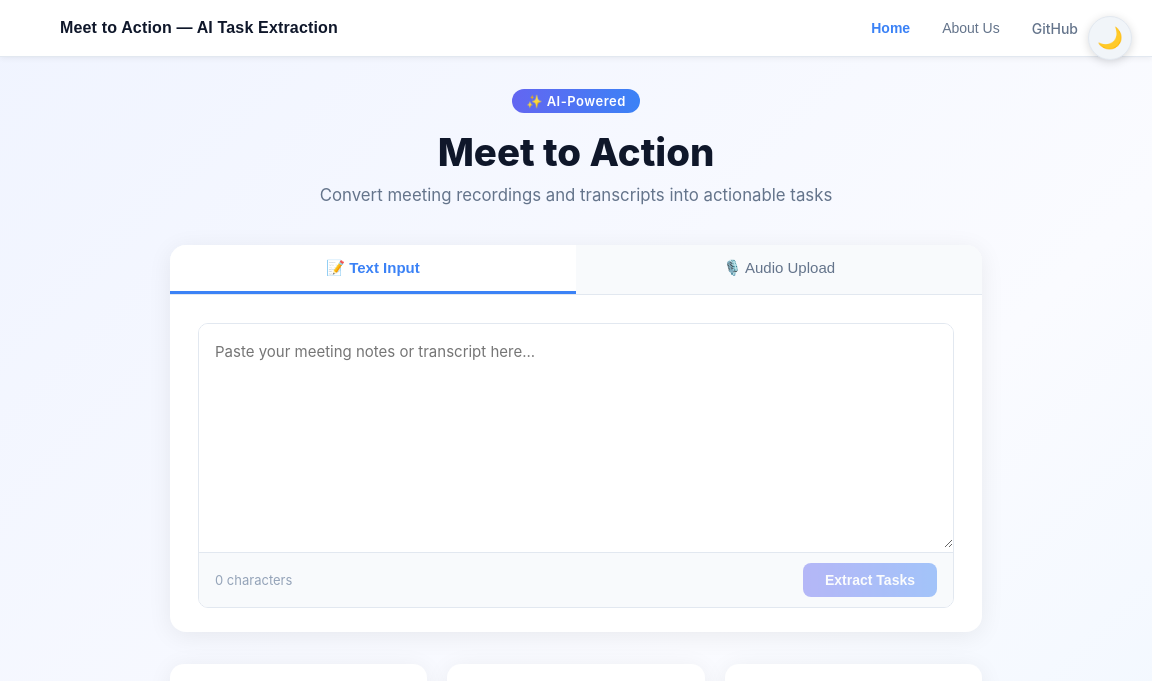
it: switching to Audio Upload tab shows the drop zone
Click the tab "🎙️ Audio Upload" at (779, 270), box [576,245,982,294]
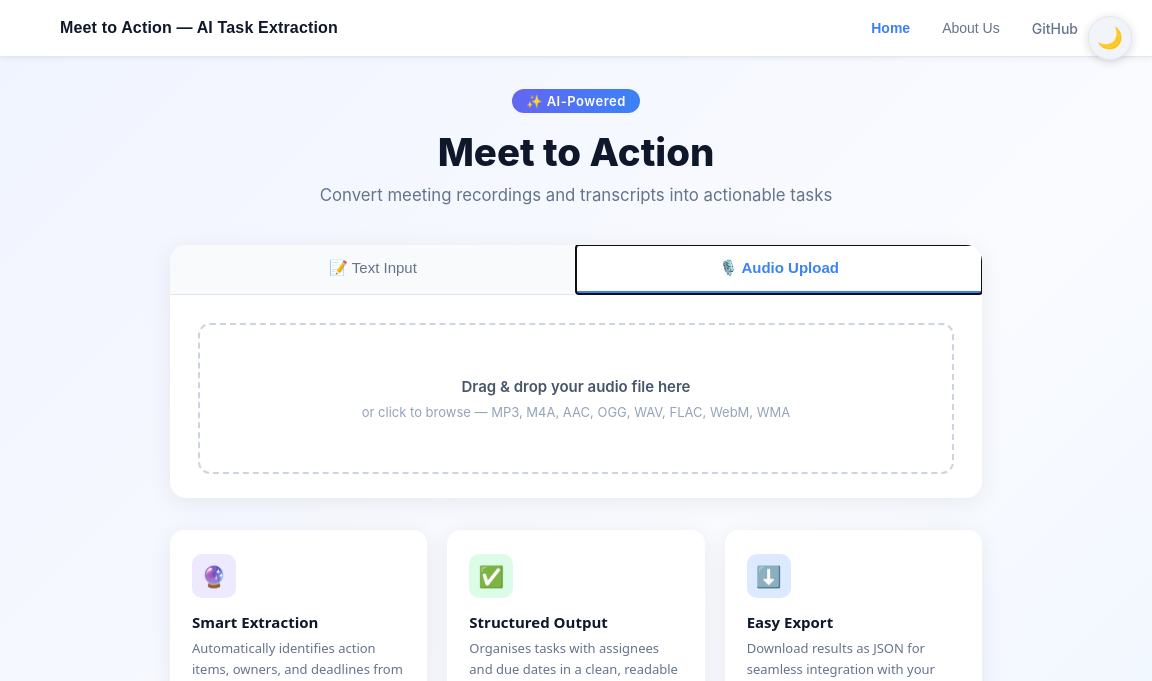
Expected: the button with aria-label "Audio file drop zone" is shown, [198,323,954,474]
